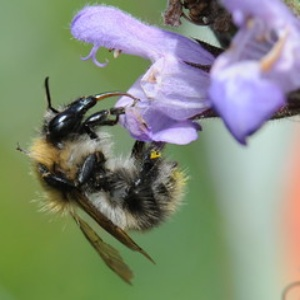bee: (14, 75, 191, 287)
